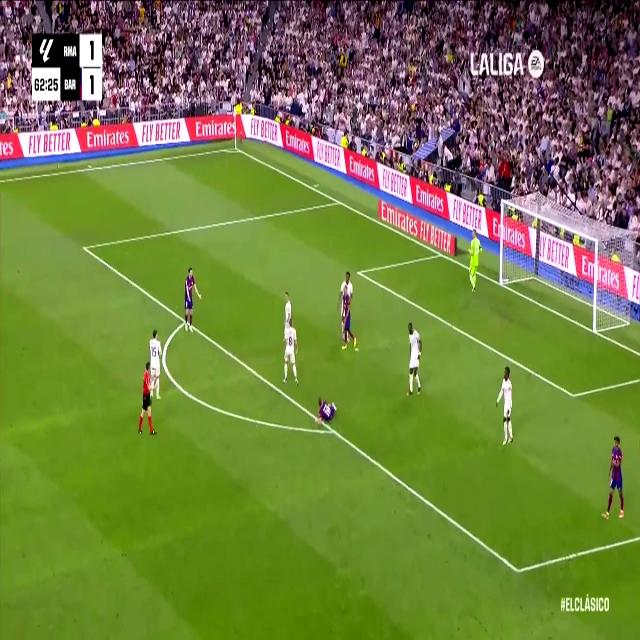bigarea_bottom_inner: (510, 551, 526, 589)
bigarea_top_inner: (79, 235, 90, 258)
bigarea_top_outter: (334, 194, 342, 208)
bottom_arc_area_intersection: (328, 421, 338, 440)
corner: (230, 141, 242, 154)
smallarea_top_inner: (354, 262, 364, 281)
